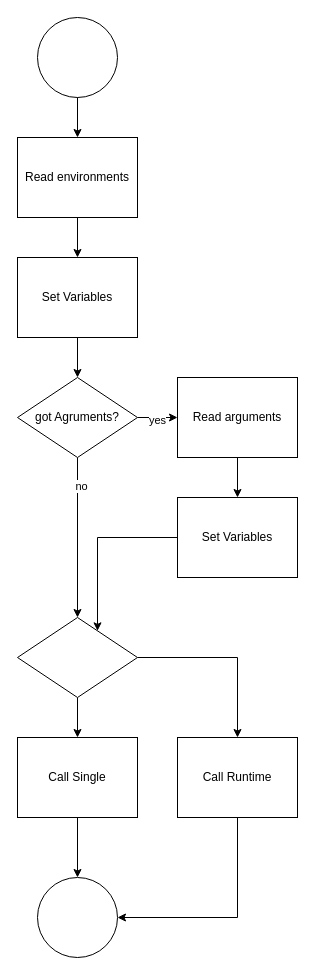
This 315x975 diagram has some shape labels left out. Here are the shapes that lost their labels. From the top down, the centre of each, then its label:
At pixel 77 57: "Start Application".
At pixel 77 657: "Single or Runtime?".
At pixel 77 917: "End".
